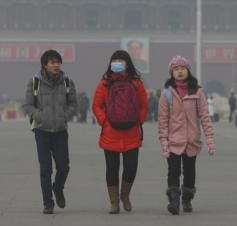person: (90, 47, 151, 215), (23, 47, 82, 215), (156, 54, 217, 215), (124, 40, 150, 72), (78, 91, 89, 123), (147, 91, 156, 123), (206, 94, 216, 122), (228, 91, 236, 123)
